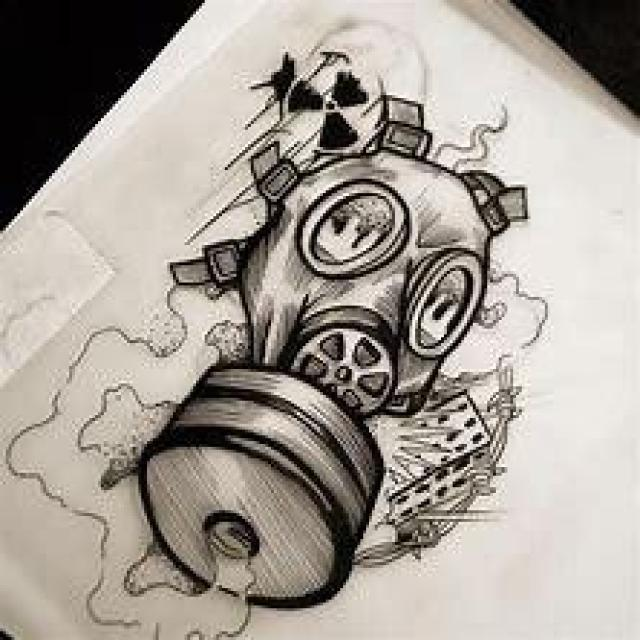nonspitting: (130, 52, 535, 616)
